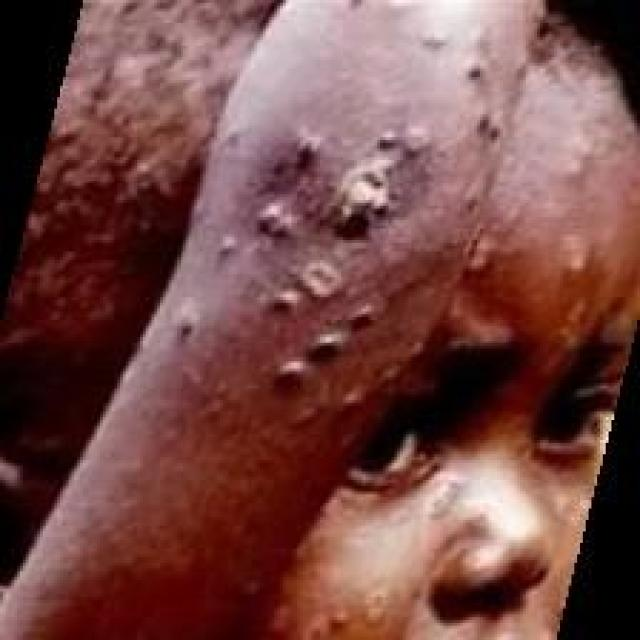monkeypox: (59, 0, 636, 640)
